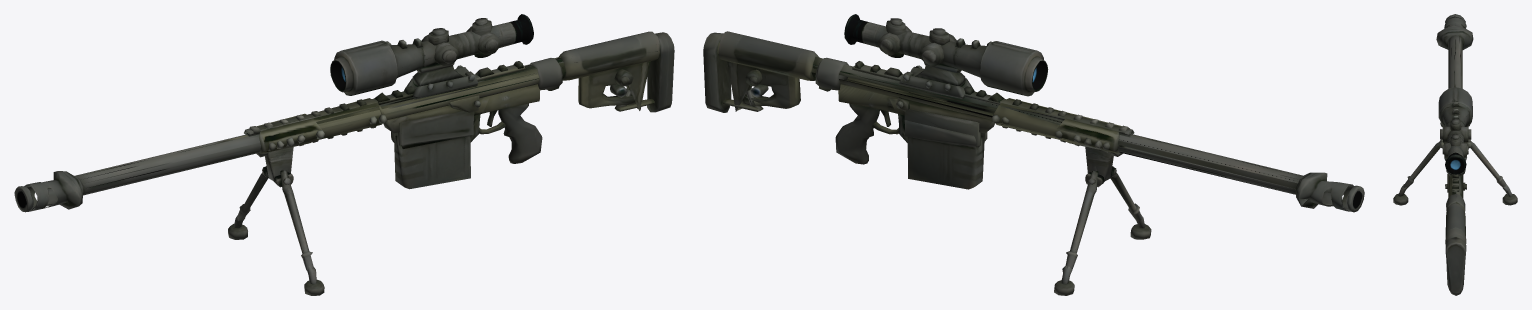
File: Meshy_AI__1119012007_texture.glb
The picture shows the model from 3 angles, left to right: view 1: azimuth 30°, elevation 25°; view 2: azimuth 150°, elevation 25°; view 3: azimuth 270°, elevation 25°; orthographic projection. The views are drawn at different scales.
Visible parts, largest first — view 1: geometry_0; view 2: geometry_0; view 3: geometry_0.
Part boxes in pixels (box(x1,y1,x2,y2)): geometry_0: box(14, 14, 674, 295); geometry_0: box(703, 14, 1364, 295); geometry_0: box(1393, 14, 1517, 295).
Size of the model in its own units: 1 by 0.288 by 0.2333.
1 material, 1 textured.
